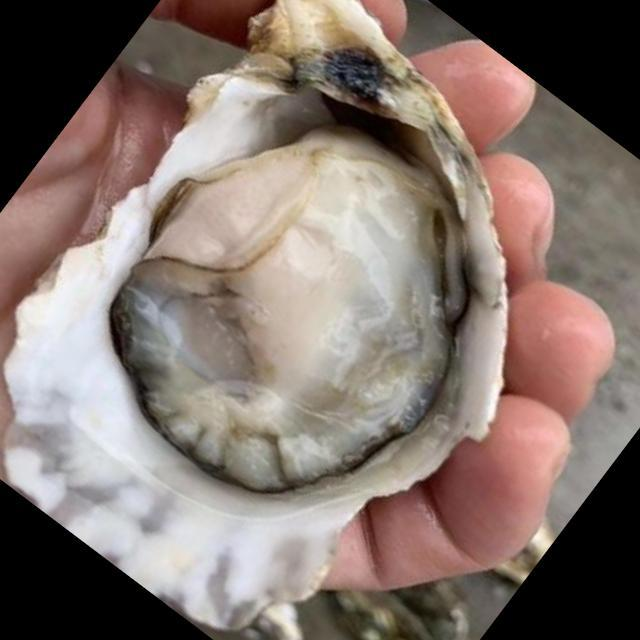Oyster- Indeterminate: (307, 560, 466, 640), (381, 555, 501, 640)
